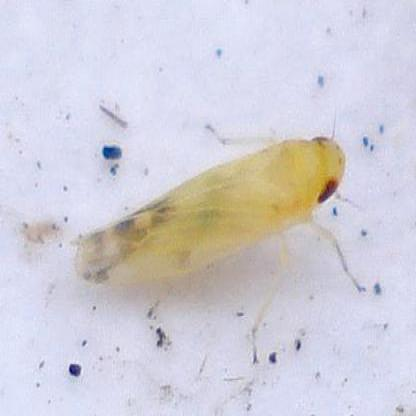green-leafhopper: (70, 123, 368, 362)
